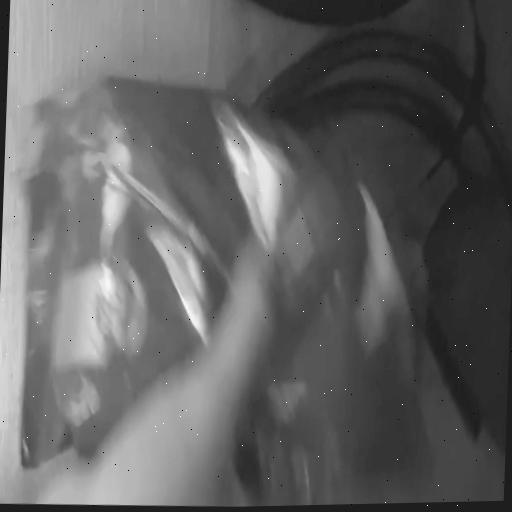cafe_xay: (19, 77, 421, 492)
